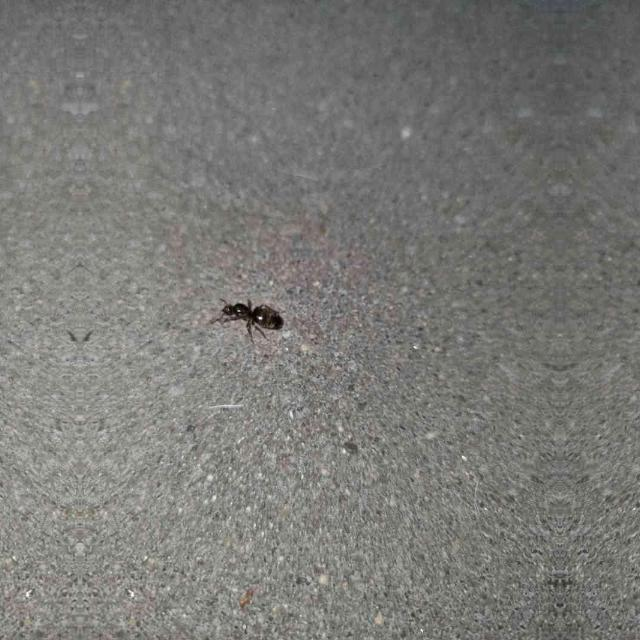Lasius: (210, 288, 282, 338)
